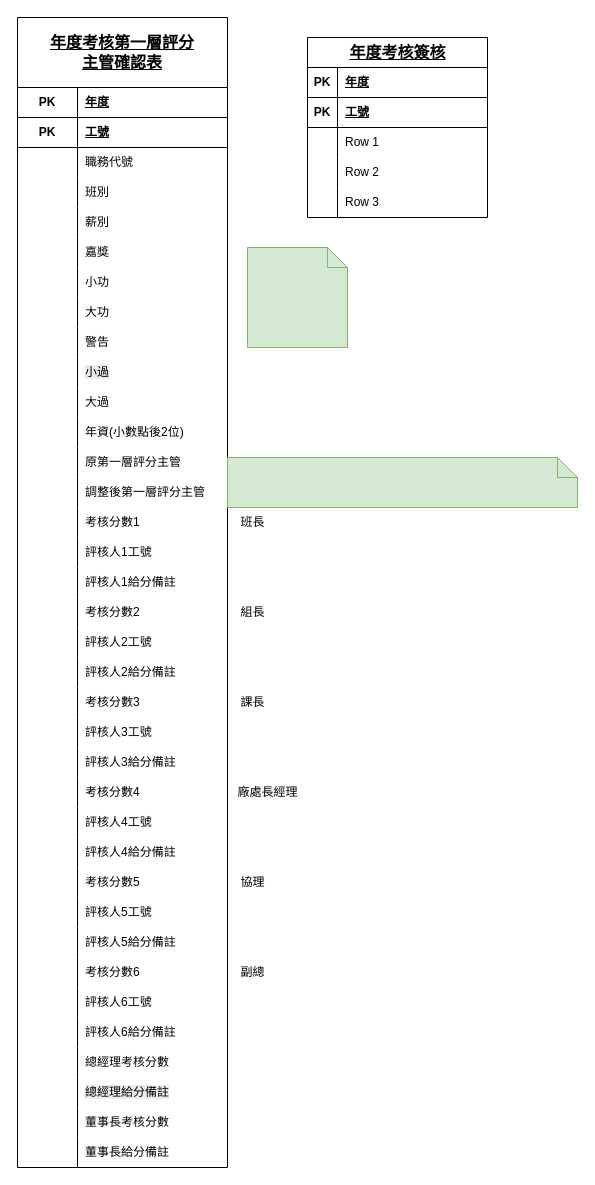
This 595x1185 diagram has some shape labels left out. The centre of each missing label's shape, as x and y in pixels:
用主管還是用部門，還要想一下 用主管：: point (402, 482)
請假、遲到早退要紀錄嗎？: point (297, 297)
